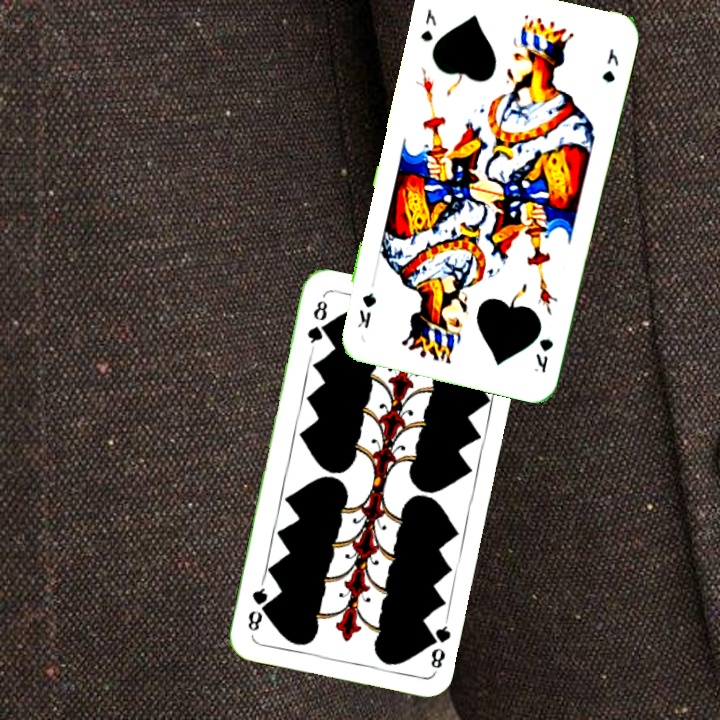G8: (422, 615, 454, 674), (303, 296, 330, 352)
GK: (531, 334, 556, 376), (416, 4, 439, 44)
